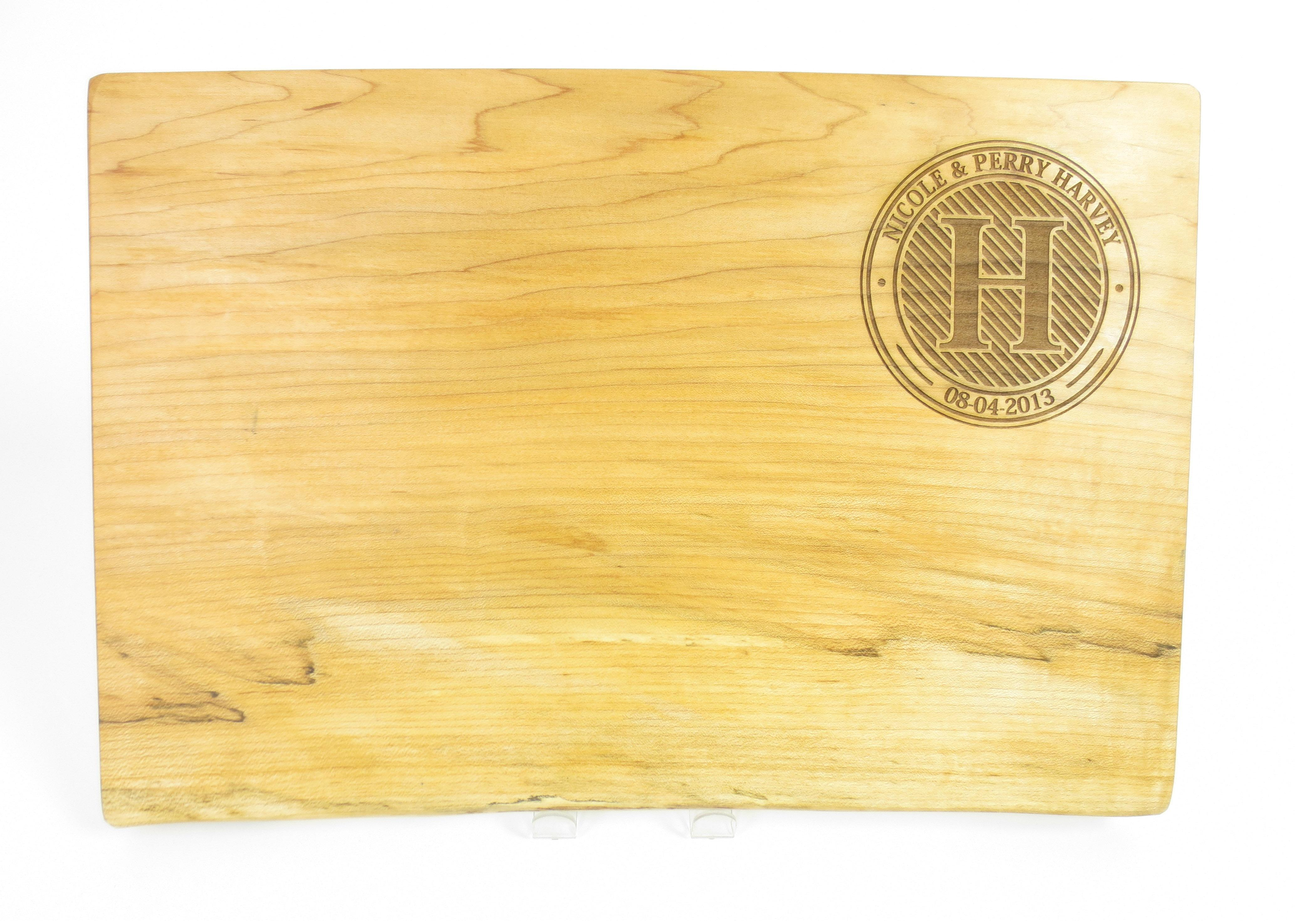gloved_hand: (63, 48, 1216, 836)
